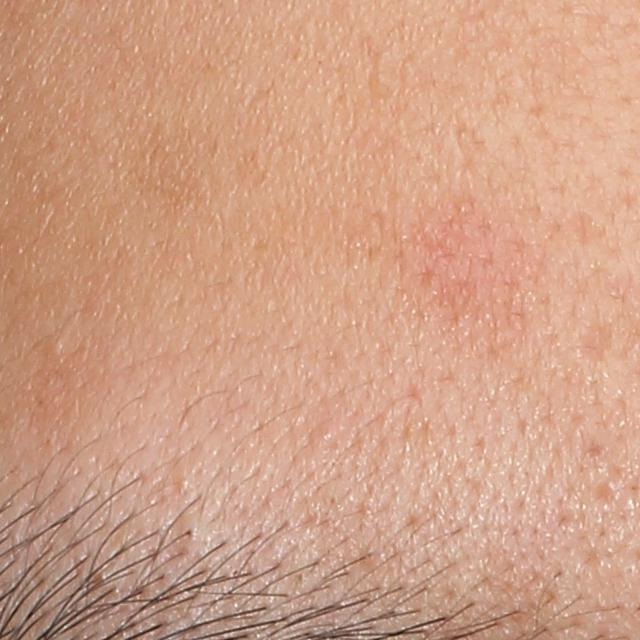atrophic_scar: (577, 313, 617, 363)
comedo: (38, 336, 65, 358)
